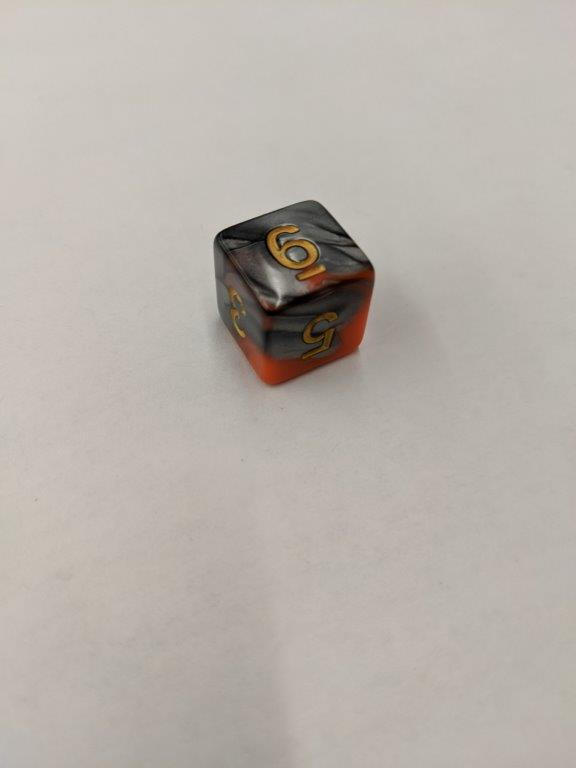d6-6: (215, 196, 374, 393)
